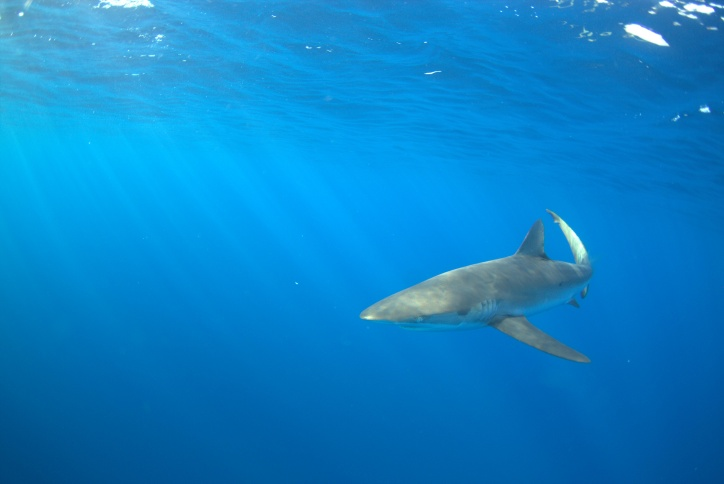Sedoso: (354, 201, 626, 373)
